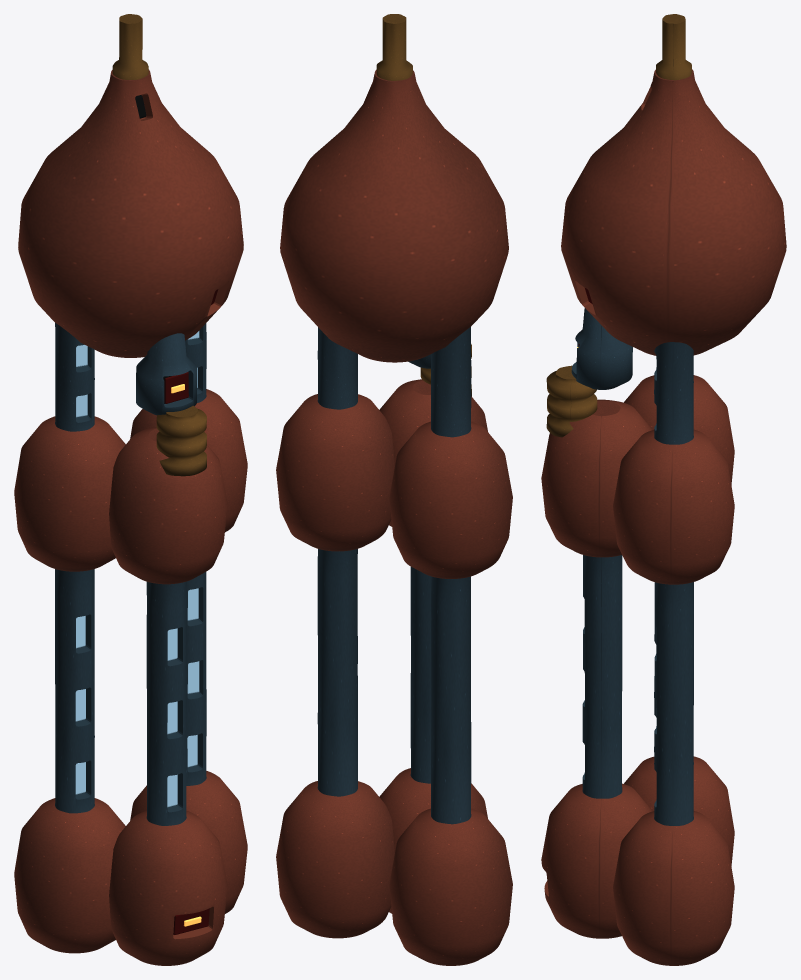
3 renders of one model, left to right at view 1: azimuth 30°, elevation 25°; view 2: azimuth 150°, elevation 25°; view 3: azimuth 270°, elevation 25°, orthographic.
Visible parts, largest first — view 1: AC18 upper onion chamber, AC18 tier 0 chamber 2, AC18 tier 1 chamber 2, AC18 tier 0 chamber 0, AC18 tier 1 chamber 0, AC18 lower exposed conduit 2, AC18 lower exposed conduit 0, AC18 tier 0 chamber 1, AC18 tier 1 chamber 1, AC18 lower exposed conduit 1, AC18 front slate instrument, AC18 upper exposed conduit 0 (+5 smaller); view 2: AC18 upper onion chamber, AC18 tier 1 chamber 0, AC18 tier 0 chamber 0, AC18 tier 1 chamber 1, AC18 tier 0 chamber 1, AC18 lower exposed conduit 1, AC18 lower exposed conduit 0, AC18 lower exposed conduit 2, AC18 upper exposed conduit 0, AC18 tier 1 chamber 2, AC18 upper exposed conduit 1, AC18 tier 0 chamber 2 (+1 smaller); view 3: AC18 upper onion chamber, AC18 tier 1 chamber 1, AC18 tier 0 chamber 1, AC18 tier 0 chamber 2, AC18 tier 1 chamber 2, AC18 lower exposed conduit 1, AC18 lower exposed conduit 2, AC18 upper exposed conduit 1, AC18 front slate instrument, AC18 tier 0 chamber 0, AC18 tier 1 chamber 0, AC18 ribbed ochre middle coupling (+1 smaller).
Part boxes in pixels (x1,y1,x2,y2): AC18 upper onion chamber: [18, 69, 243, 357]; AC18 tier 0 chamber 2: [109, 810, 227, 965]; AC18 tier 1 chamber 2: [109, 427, 227, 584]; AC18 tier 0 chamber 0: [14, 798, 125, 953]; AC18 tier 1 chamber 0: [14, 416, 125, 571]; AC18 lower exposed conduit 2: [146, 581, 186, 825]; AC18 lower exposed conduit 0: [55, 569, 94, 813]; AC18 tier 0 chamber 1: [130, 771, 247, 913]; AC18 tier 1 chamber 1: [130, 389, 247, 532]; AC18 lower exposed conduit 1: [186, 572, 206, 785]; AC18 front slate instrument: [136, 333, 196, 415]; AC18 upper exposed conduit 0: [55, 323, 94, 431]; AC18 upper onion chamber: [280, 69, 508, 362]; AC18 tier 1 chamber 0: [389, 421, 512, 578]; AC18 tier 0 chamber 0: [389, 808, 512, 965]; AC18 tier 1 chamber 1: [276, 394, 394, 551]; AC18 tier 0 chamber 1: [276, 781, 394, 938]; AC18 lower exposed conduit 1: [317, 549, 357, 796]; AC18 lower exposed conduit 0: [431, 576, 471, 824]; AC18 lower exposed conduit 2: [410, 567, 431, 783]; AC18 upper exposed conduit 0: [431, 327, 471, 437]; AC18 tier 1 chamber 2: [379, 379, 487, 526]; AC18 upper exposed conduit 1: [317, 327, 357, 409]; AC18 tier 0 chamber 2: [379, 768, 487, 913]; AC18 upper onion chamber: [561, 69, 786, 355]; AC18 tier 1 chamber 1: [613, 429, 734, 584]; AC18 tier 0 chamber 1: [613, 811, 734, 965]; AC18 tier 0 chamber 2: [541, 783, 652, 938]; AC18 tier 1 chamber 2: [541, 399, 652, 557]; AC18 lower exposed conduit 1: [654, 582, 693, 825]; AC18 lower exposed conduit 2: [582, 555, 622, 798]; AC18 upper exposed conduit 1: [654, 342, 693, 444]; AC18 front slate instrument: [571, 308, 632, 389]; AC18 tier 0 chamber 0: [624, 756, 734, 866]; AC18 tier 1 chamber 0: [624, 375, 734, 485]; AC18 ribbed ochre middle coupling: [546, 365, 597, 437].
Bounding box in the file's own units: 1.4 × 5.58 × 1.37.
7 materials, 5 textured.
